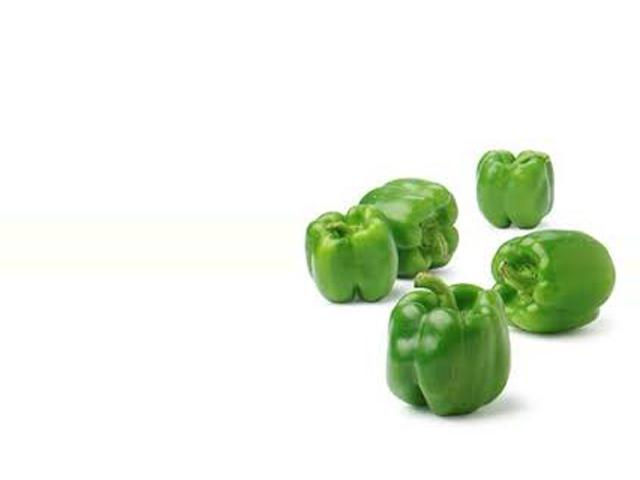bell_pepper: (302, 210, 404, 314)
